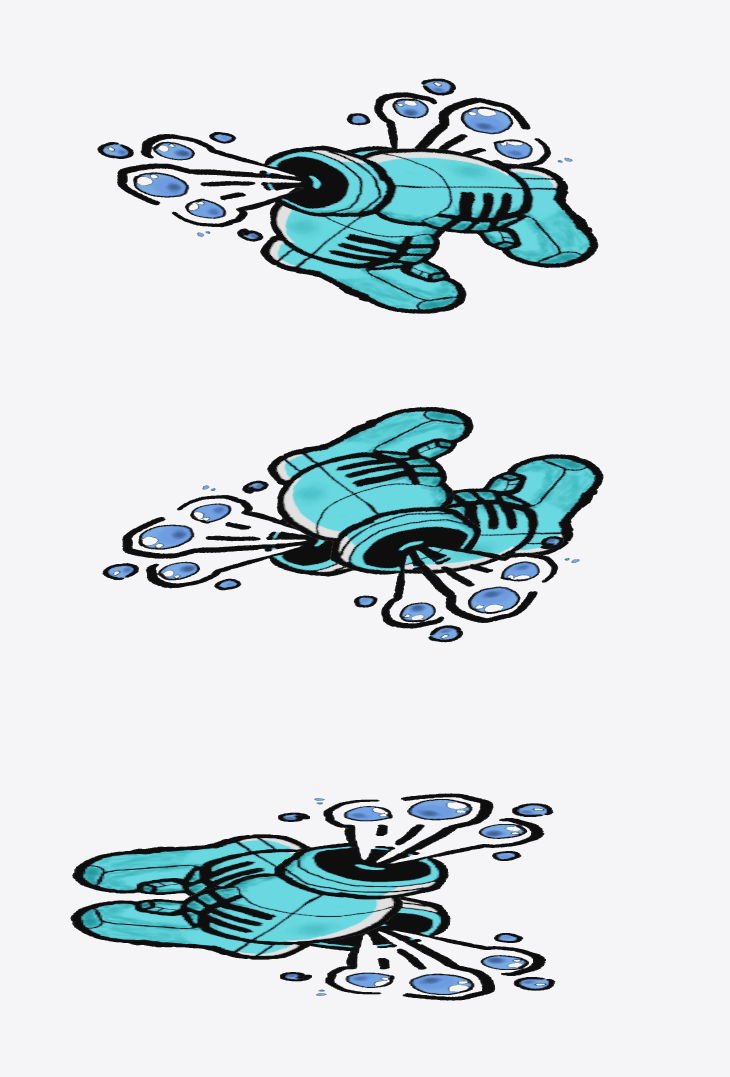
The model's file is bubbleBlaster.obj.
3 views of the same model, one above another, from view 1: azimuth 30°, elevation 25°; view 2: azimuth 150°, elevation 25°; view 3: azimuth 270°, elevation 25° (orthographic).
Parts seen in each view (by area): view 1: Cylinder; view 2: Cylinder; view 3: Cylinder.
Boxes of the visible parts, left/top/right/bottom form: Cylinder: left=97, top=78, right=598, bottom=313; Cylinder: left=102, top=407, right=603, bottom=642; Cylinder: left=70, top=793, right=555, bottom=1000.
Size of the model in its own units: 8.1 by 0.4326 by 8.15.
